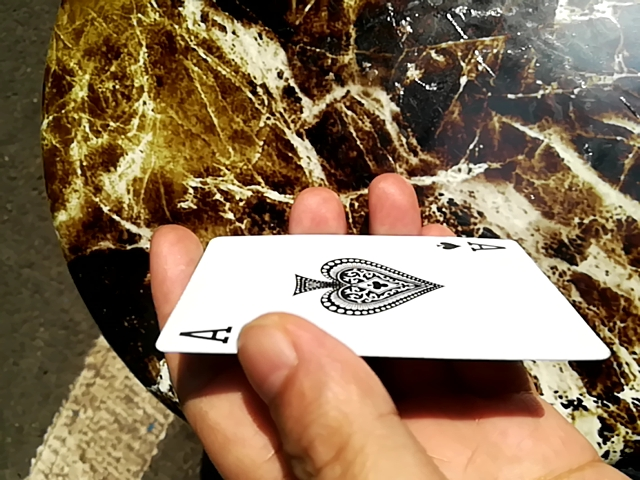ht a: (158, 239, 632, 379)
